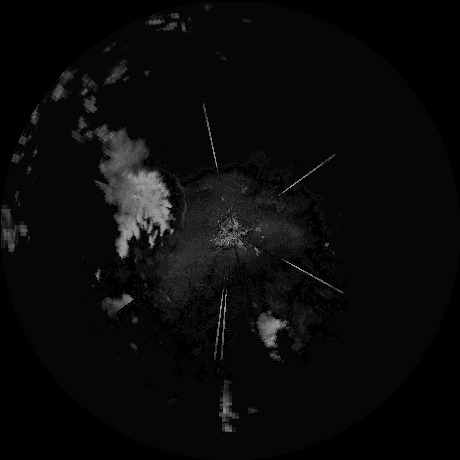frontgust: (170, 175, 189, 229)
